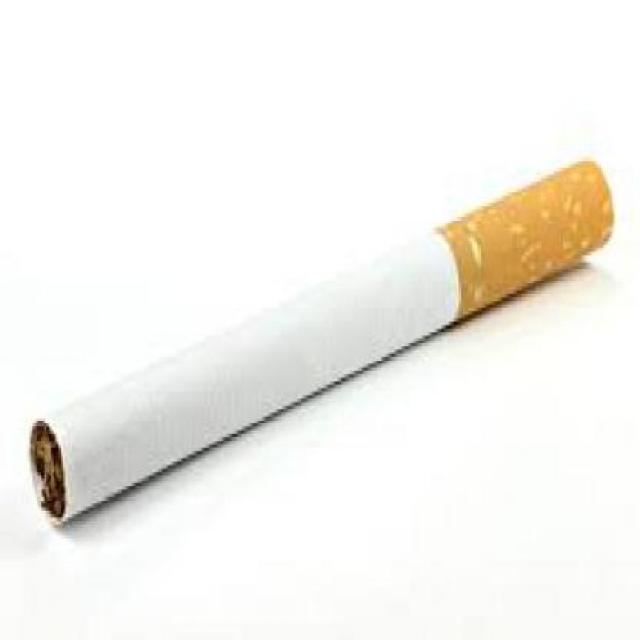cigarette: (25, 133, 607, 532)
